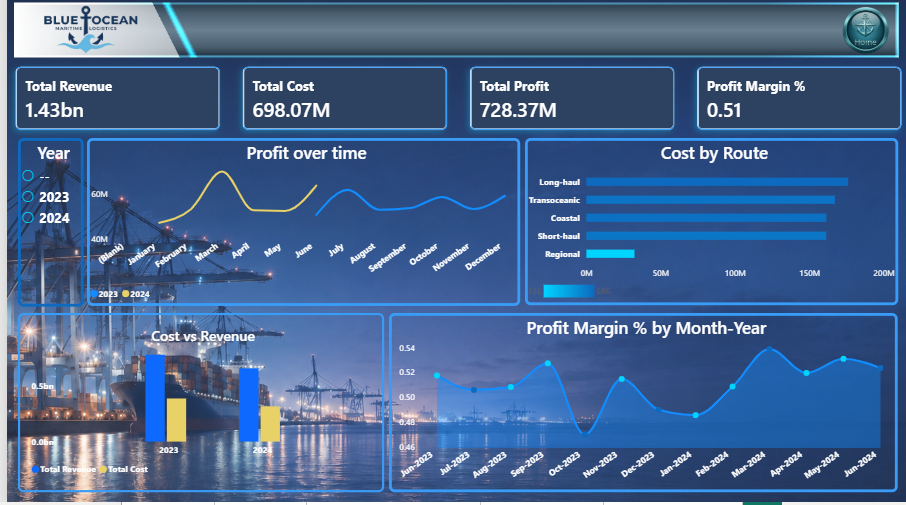

The page's visual inventory and layout, read from the dashboard file:
{"tool":"powerbi","page":{"name":"Overview","canvas":[1280,720],"ordinal":1},"visuals":[{"type":"image","box":[10.4,0,1254.3,101.4],"z":0,"group":"g1"},{"type":"cardVisual","fields":{"Data":["Ship.Total Revenue","Ship.Total Cost","Ship.Total Profit","Ship.Profit Margin %"]},"box":[0,90,1280,114.3],"z":0},{"type":"image","box":[10.4,0,202.9,101.4],"z":1000,"group":"g1"},{"type":"lineChart","title":"Profit over time","fields":{"Category":["Dim date.Month name"],"Series":["Dim date.Year"],"Y":["Ship.Total Profit"]},"box":[114,204,614,238],"z":1000},{"type":"lineClusteredColumnComboChart","title":"Cost vs Revenue ","fields":{"Category":["Dim date.Year"],"Y":["Ship.Total Revenue","Ship.Total Cost"]},"box":[15.7,451.4,518.6,254.3],"z":2000},{"type":"areaChart","fields":{"Category":["Dim date.Month-Year"],"Y":["Ship.Profit Margin %"]},"box":[541.4,451.4,721.4,254.3],"z":3000},{"type":"clusteredBarChart","title":"Cost by Route","fields":{"Category":["Ship.Route_Type"],"Y":["Ship.Total Cost"]},"box":[734.3,204.3,528.6,237.1],"z":4000},{"type":"listSlicer","fields":{"Values":["Dim date.Year"]},"box":[15.7,204.3,92.9,238.6],"z":5000},{"type":"group","id":"g1","title":"Group 1","box":[10.4,0,1254.3,101.4],"z":6000},{"type":"image","box":[1160.8,14.2,110.6,90.7],"z":7000}]}

Visuals, with their boxes in screenshot pixels (x1, y1, x2, y2), scaled from the page's 1280x720 canvas onto the 906x505 screenshot:
image: rect(7, 0, 895, 71)
cardVisual - Ship.Total Revenue x Ship.Total Cost: rect(0, 63, 905, 143)
image: rect(7, 0, 151, 71)
"Profit over time" lineChart: rect(81, 143, 515, 310)
"Cost vs Revenue " lineClusteredColumnComboChart: rect(11, 317, 378, 495)
areaChart - Dim date.Month-Year x Ship.Profit Margin %: rect(383, 317, 894, 495)
"Cost by Route" clusteredBarChart: rect(520, 143, 894, 310)
listSlicer - Dim date.Year: rect(11, 143, 77, 311)
"Group 1" group: rect(7, 0, 895, 71)
image: rect(822, 10, 900, 74)
